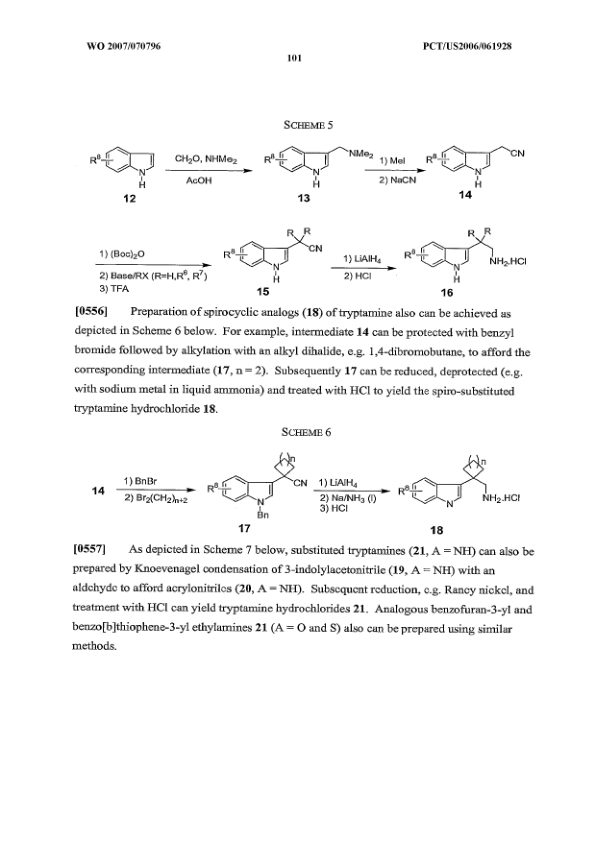compound-structure: (395, 454, 528, 515), (403, 224, 525, 285), (208, 454, 309, 521), (211, 224, 323, 284), (259, 141, 373, 188), (420, 144, 532, 188), (84, 141, 165, 190)
reaction: (63, 119, 544, 298), (97, 420, 541, 538)
reaction-arrow: (94, 244, 214, 294), (113, 470, 199, 514), (165, 150, 255, 190), (313, 473, 392, 515), (332, 244, 396, 287), (361, 154, 426, 190)
